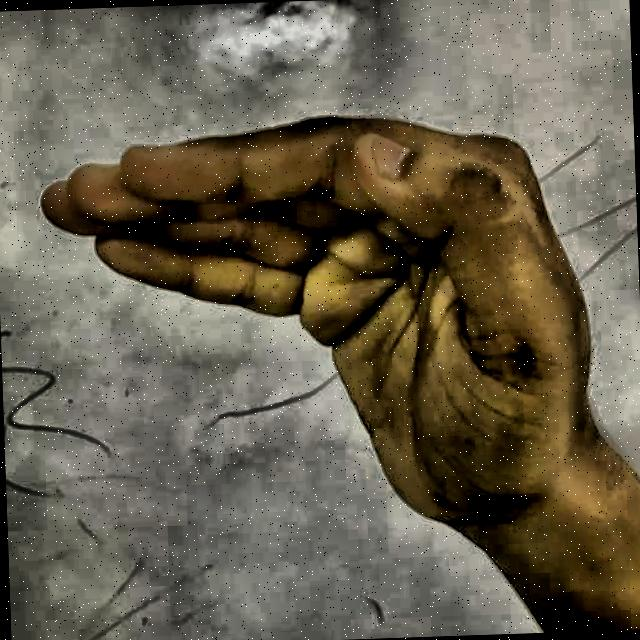Ga: (27, 59, 626, 586)
